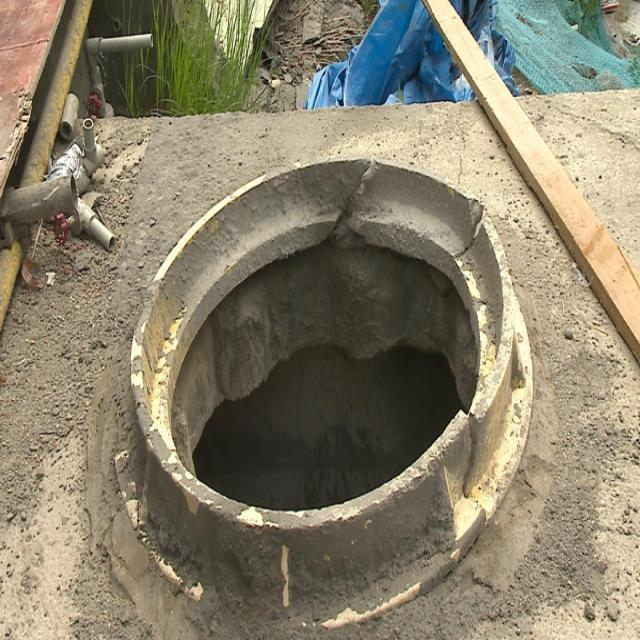manhole: (90, 158, 532, 640)
